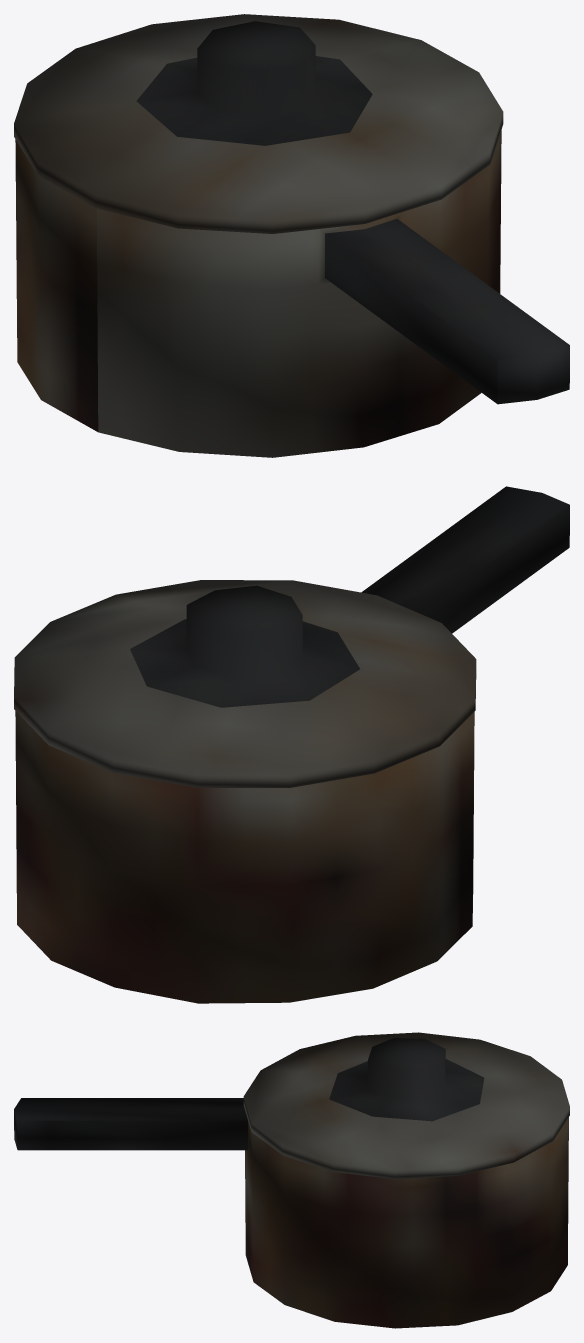
Rendered from SM_EC_Pan_3.fbx.
The picture shows the model from 3 angles, top to bottom: view 1: azimuth 30°, elevation 25°; view 2: azimuth 150°, elevation 25°; view 3: azimuth 270°, elevation 25°; orthographic projection. The views are drawn at different scales.
Parts seen in each view (by area): view 1: SM_EC_Pan_3, SM_EC_Pan_Lid_3; view 2: SM_EC_Pan_3, SM_EC_Pan_Lid_3; view 3: SM_EC_Pan_3, SM_EC_Pan_Lid_3.
Part boxes in pixels (bbox=[...]): SM_EC_Pan_3: bbox=[15, 130, 569, 457]; SM_EC_Pan_Lid_3: bbox=[14, 14, 503, 233]; SM_EC_Pan_3: bbox=[15, 486, 569, 1003]; SM_EC_Pan_Lid_3: bbox=[14, 580, 476, 787]; SM_EC_Pan_3: bbox=[14, 1098, 568, 1328]; SM_EC_Pan_Lid_3: bbox=[243, 1032, 569, 1179].
Bounding box in the file's own units: 0.2498 × 0.4255 × 0.1762.
